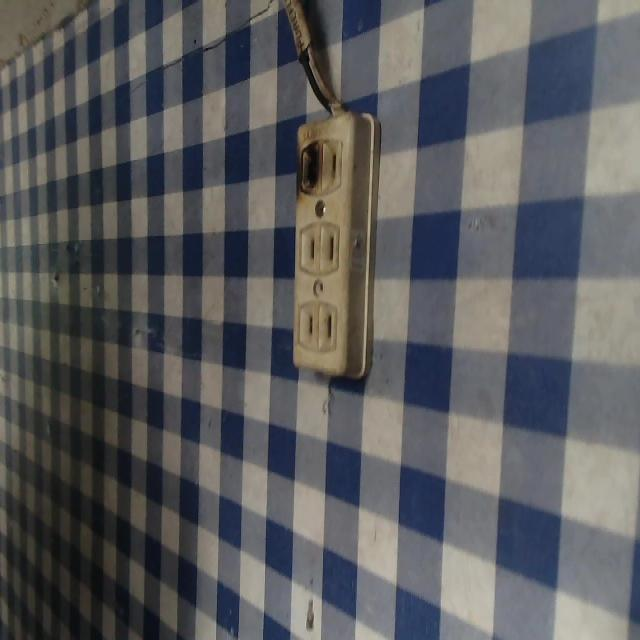-: (295, 139, 322, 193)
